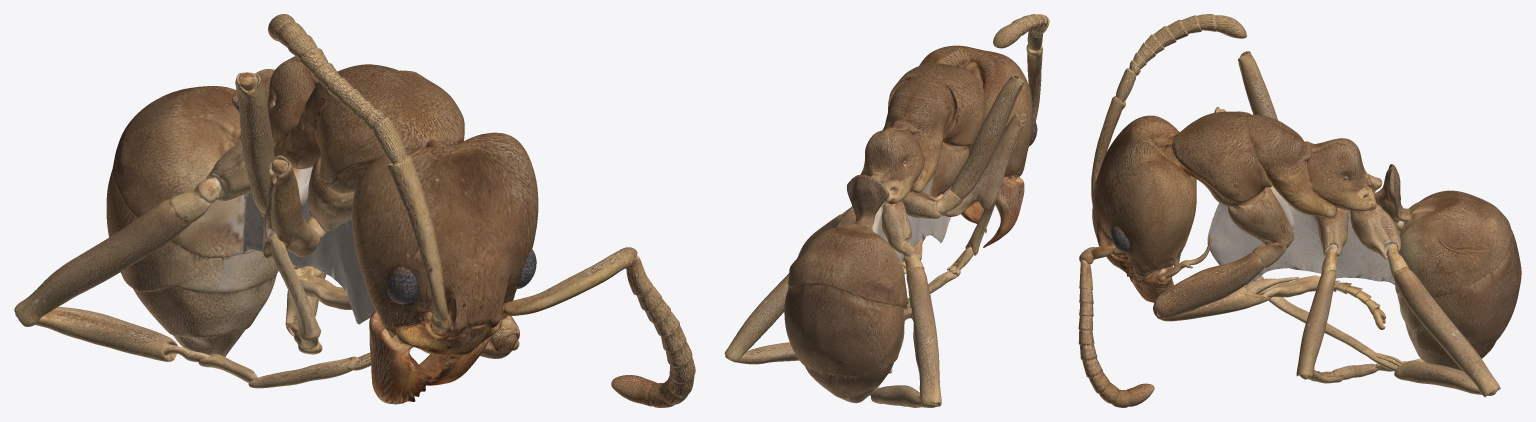
Rendered from esp4.glb.
3 views of the same model, side by side, from view 1: azimuth 30°, elevation 25°; view 2: azimuth 150°, elevation 25°; view 3: azimuth 270°, elevation 25° (orthographic). The views are drawn at different scales.
Bounding box in the file's own units: 1.38 × 1.59 × 1.9.
1 material, 1 textured.
